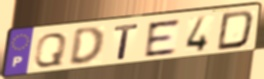4: (184, 14, 212, 53)
D: (214, 9, 256, 52), (67, 25, 107, 66)
E: (144, 18, 182, 59)
Q: (32, 31, 70, 69)
T: (113, 22, 141, 61)
